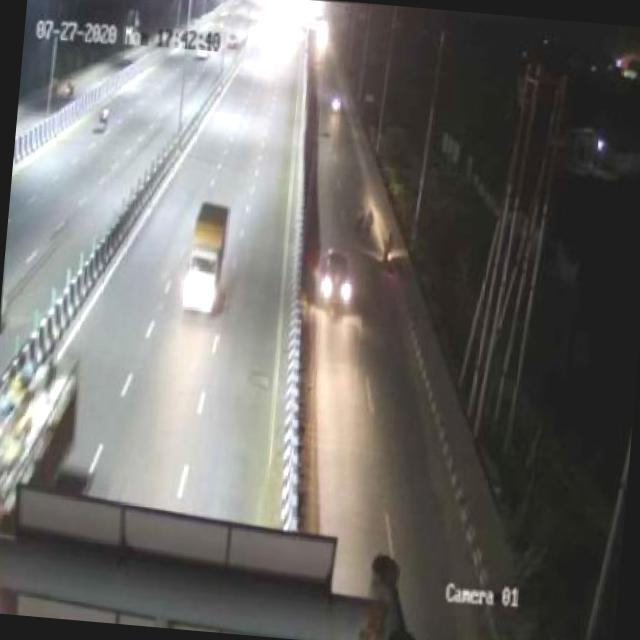car: (310, 240, 360, 314)
